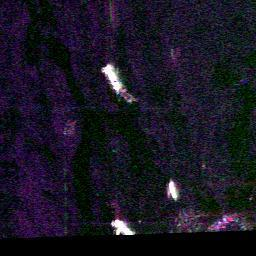Ship: (101, 66, 125, 94), (107, 219, 136, 239), (165, 178, 177, 201)
